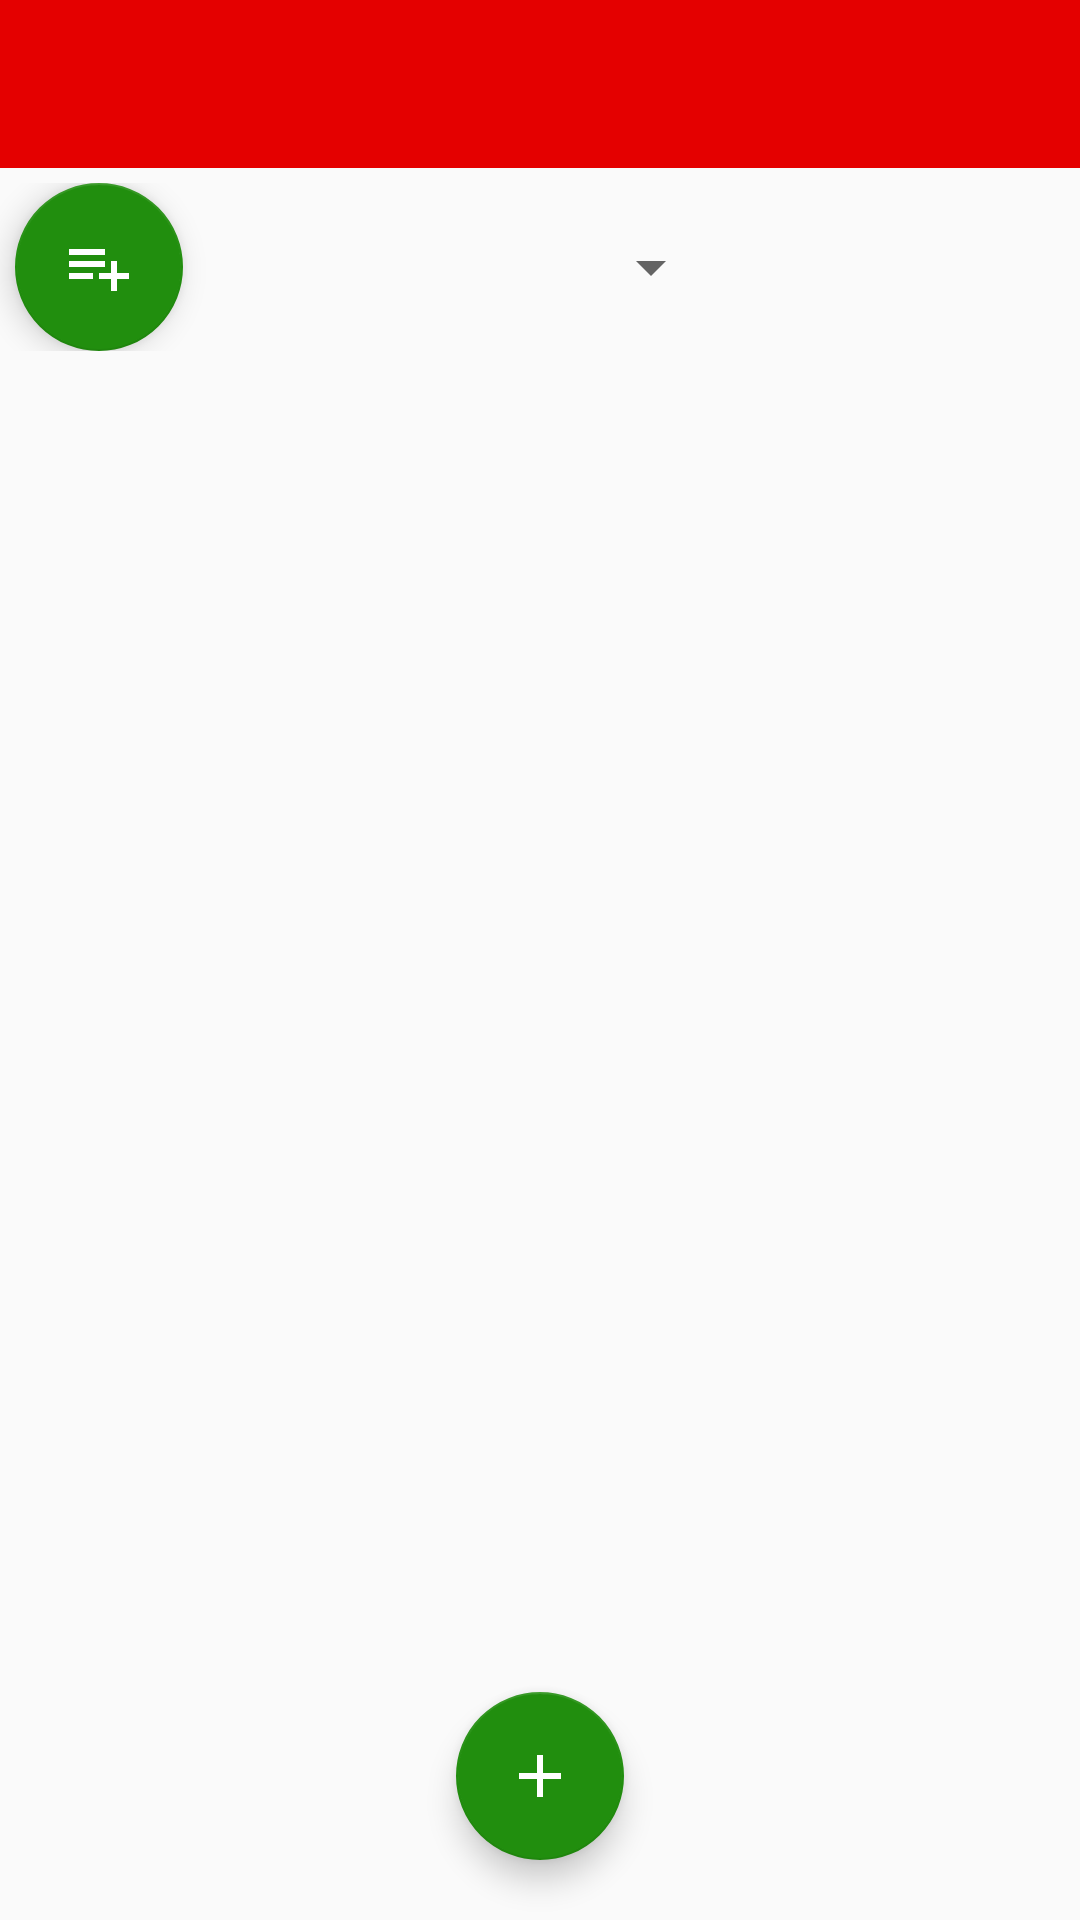

Where icons sit on this 1080×1920 app screen, as [x1,y1,x2,y2]:
add: [456,1692,624,1860]
playlist add: [15,183,183,351]
